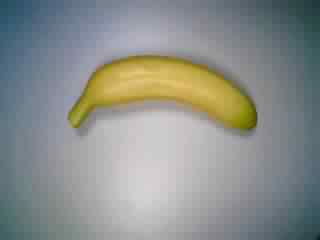banana: (63, 52, 268, 150)
